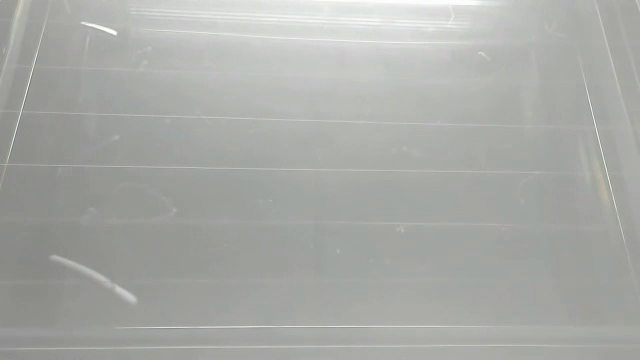alpha: (45, 249, 141, 309), (77, 18, 120, 42)
